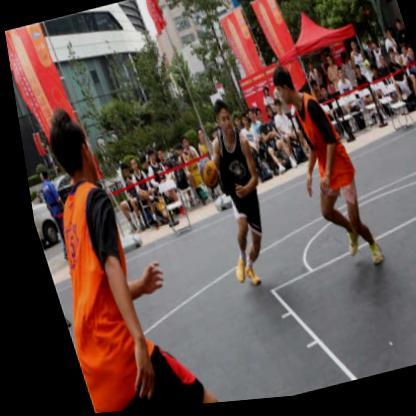basketball: (190, 158, 217, 194)
